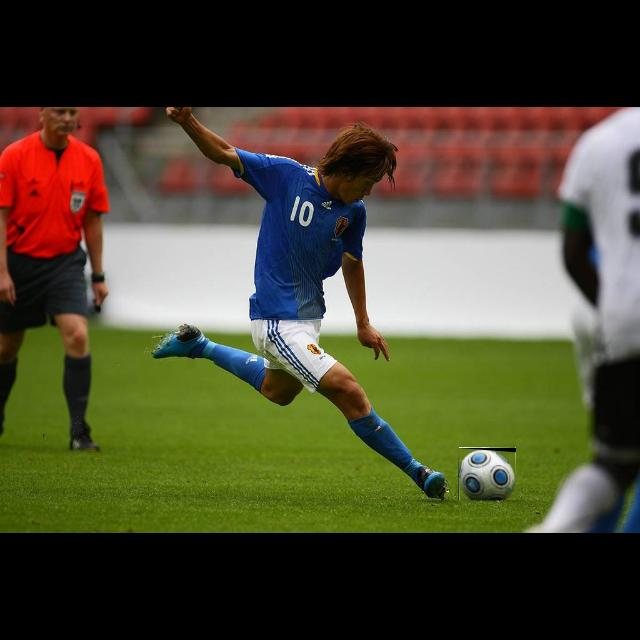Football: (458, 448, 516, 500)
